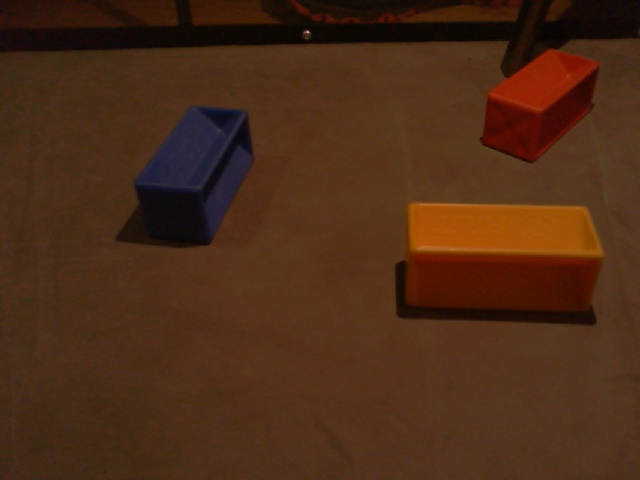BlueSample: (132, 102, 256, 248)
RedSample: (481, 47, 602, 162)
YellowSample: (400, 199, 605, 318)
